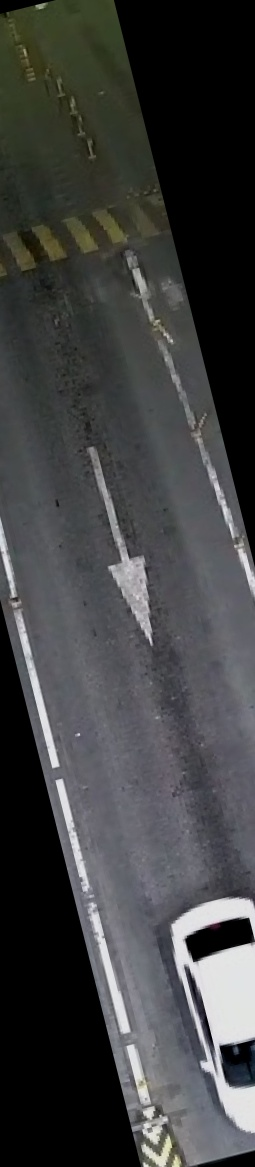car: (143, 870, 255, 1154)
